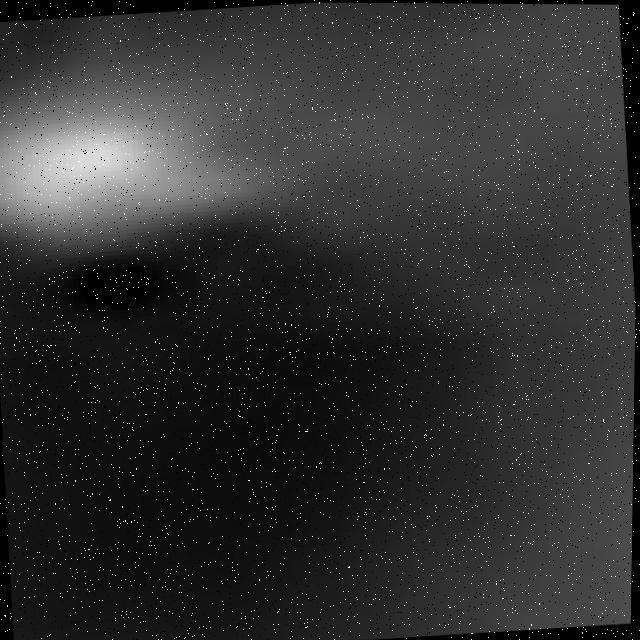person: (1, 36, 486, 308)
